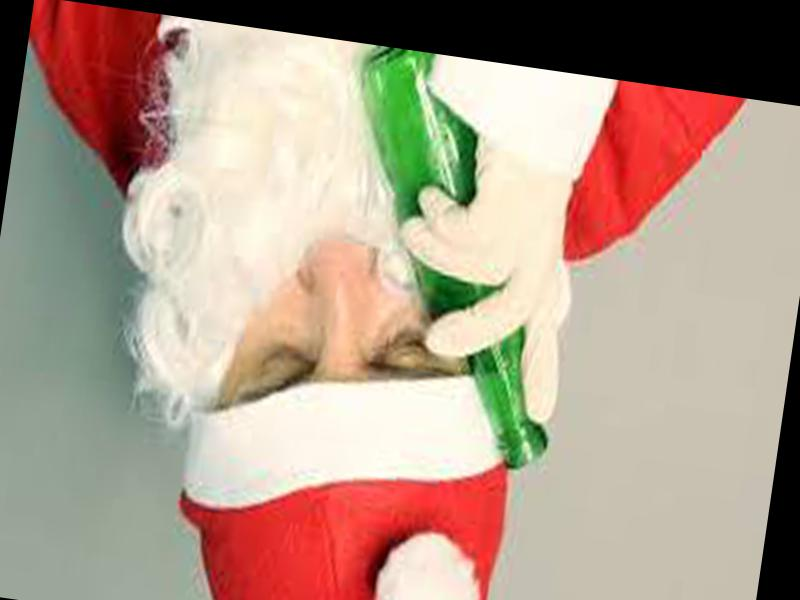Beer: (314, 43, 602, 469)
